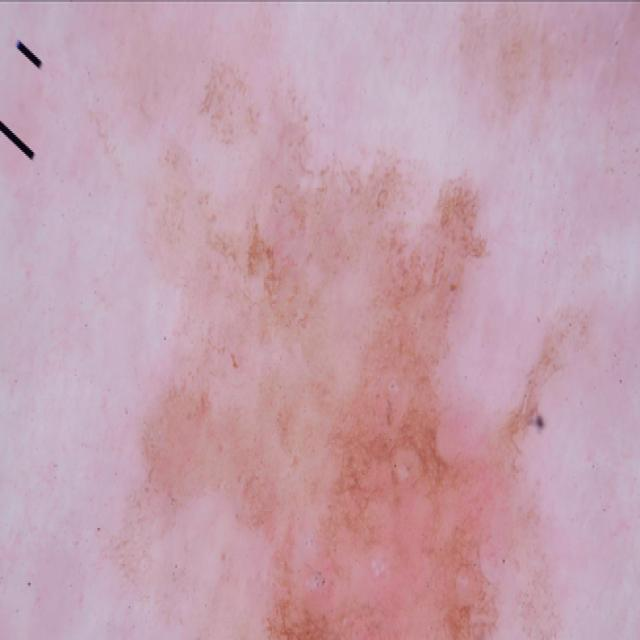Keratosis: (121, 40, 619, 640)
